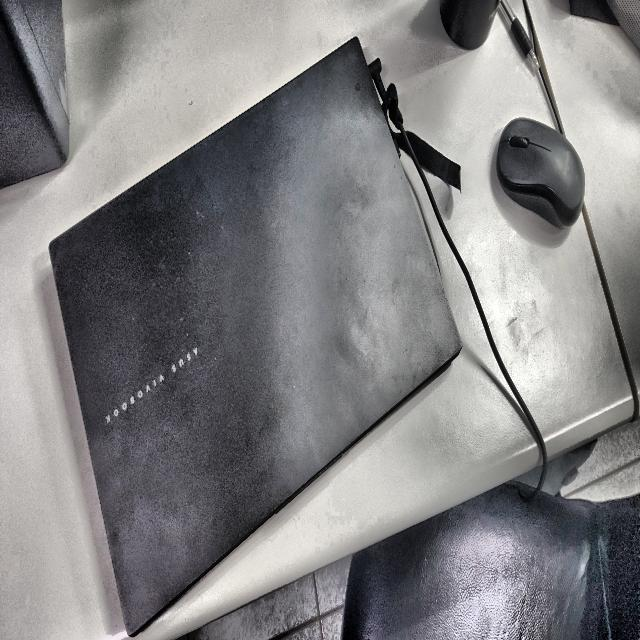laptop: (49, 38, 461, 634)
switchboard: (497, 118, 584, 228)
